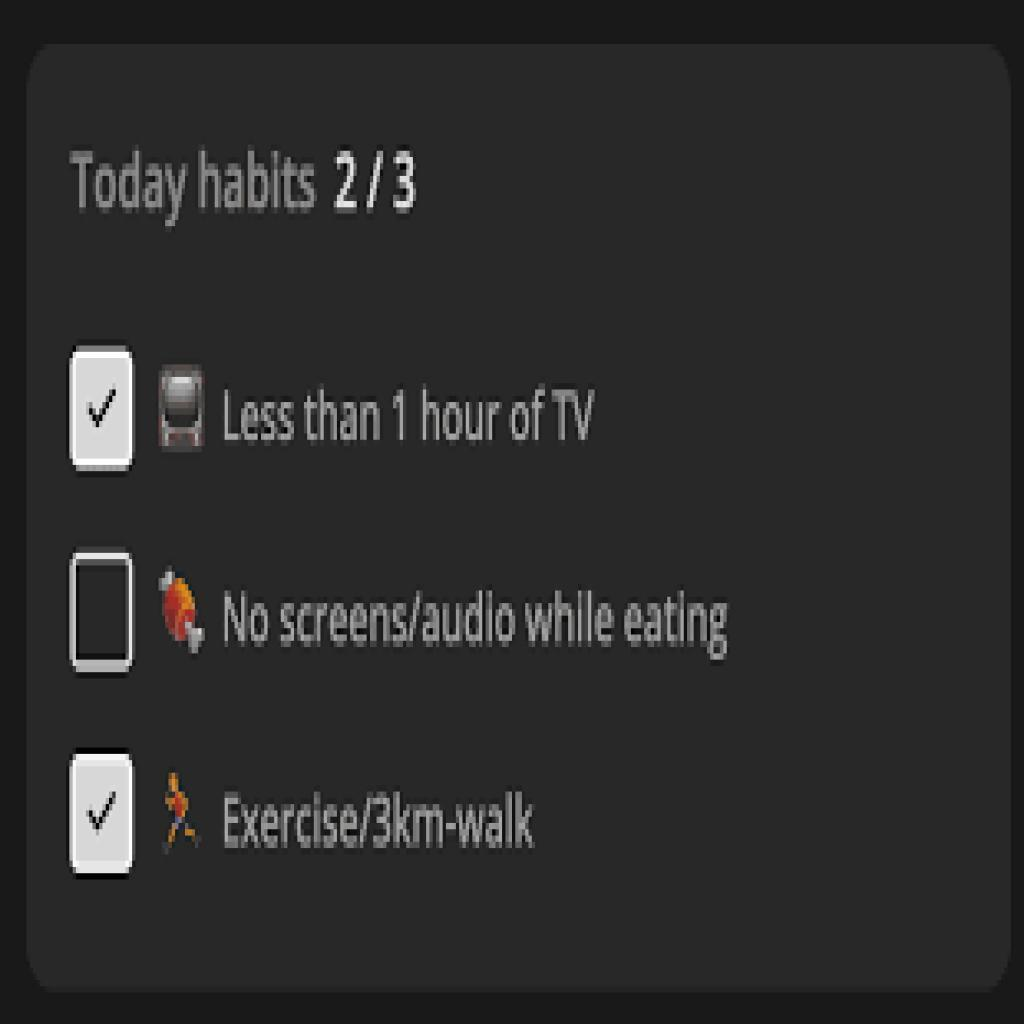checkbox: (70, 344, 138, 472), (73, 756, 133, 875), (74, 561, 133, 663)
